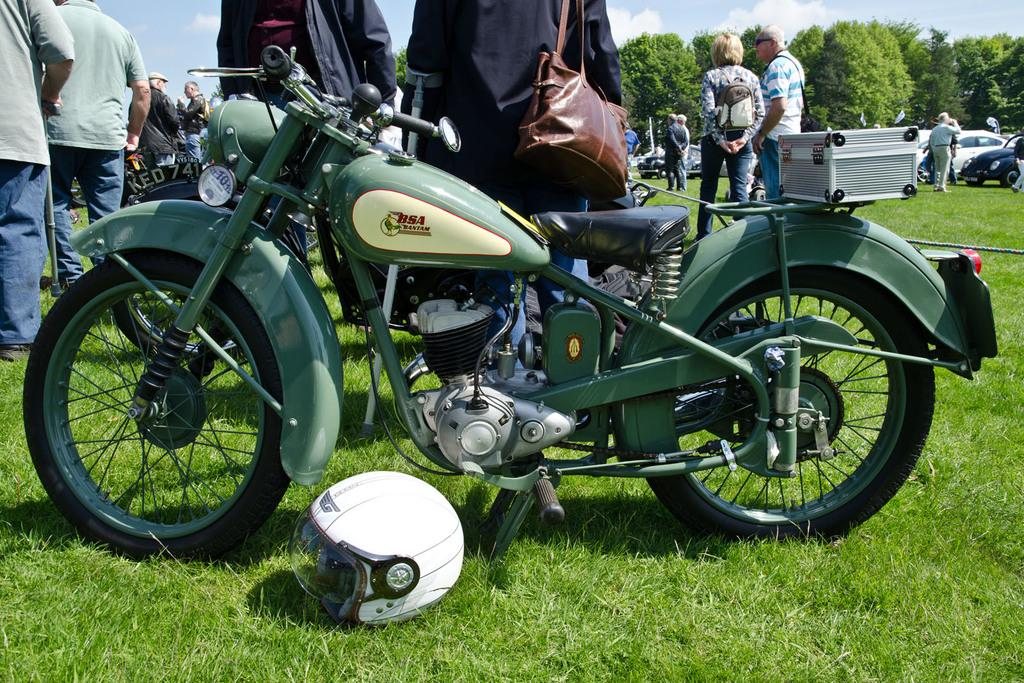helmet: (288, 470, 464, 627)
nohelmet: (753, 24, 784, 64), (711, 34, 744, 70), (148, 72, 169, 95), (183, 81, 200, 100), (938, 112, 950, 126), (676, 114, 688, 127), (667, 113, 678, 127)
